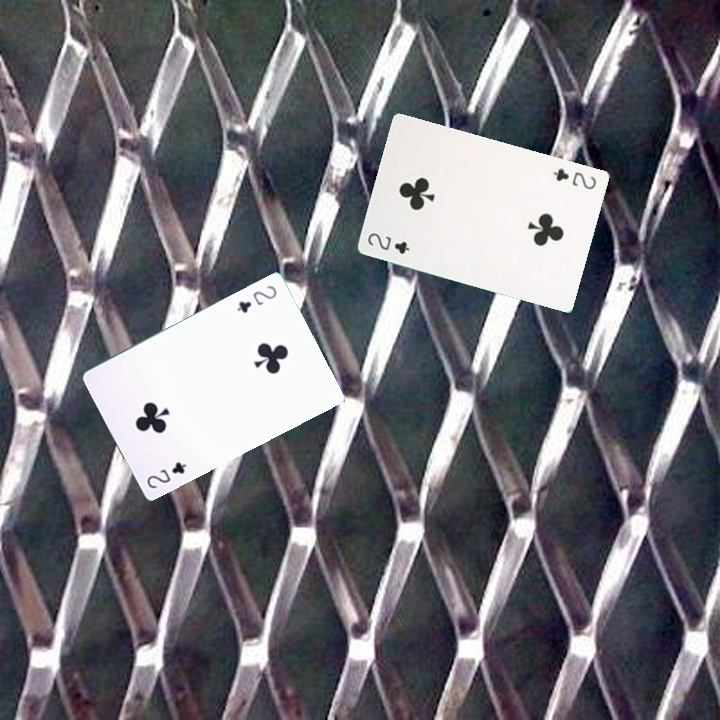2c: (233, 281, 279, 316), (142, 457, 189, 491), (549, 164, 599, 192), (363, 229, 412, 257)
